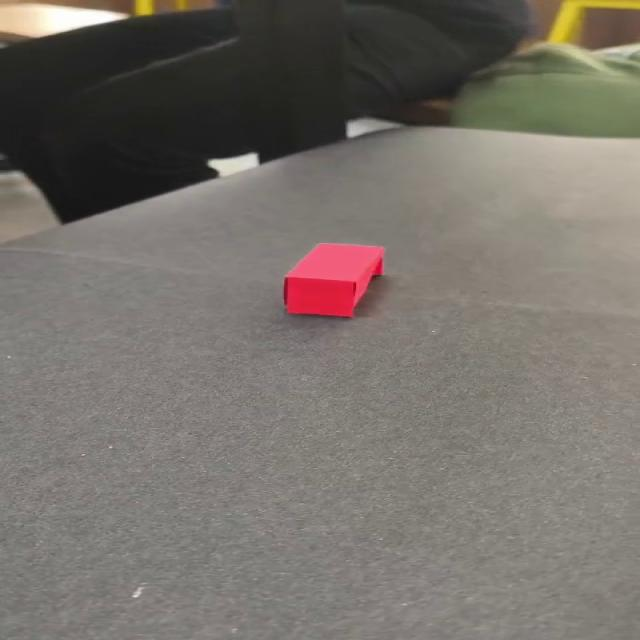red block: (282, 241, 386, 318)
